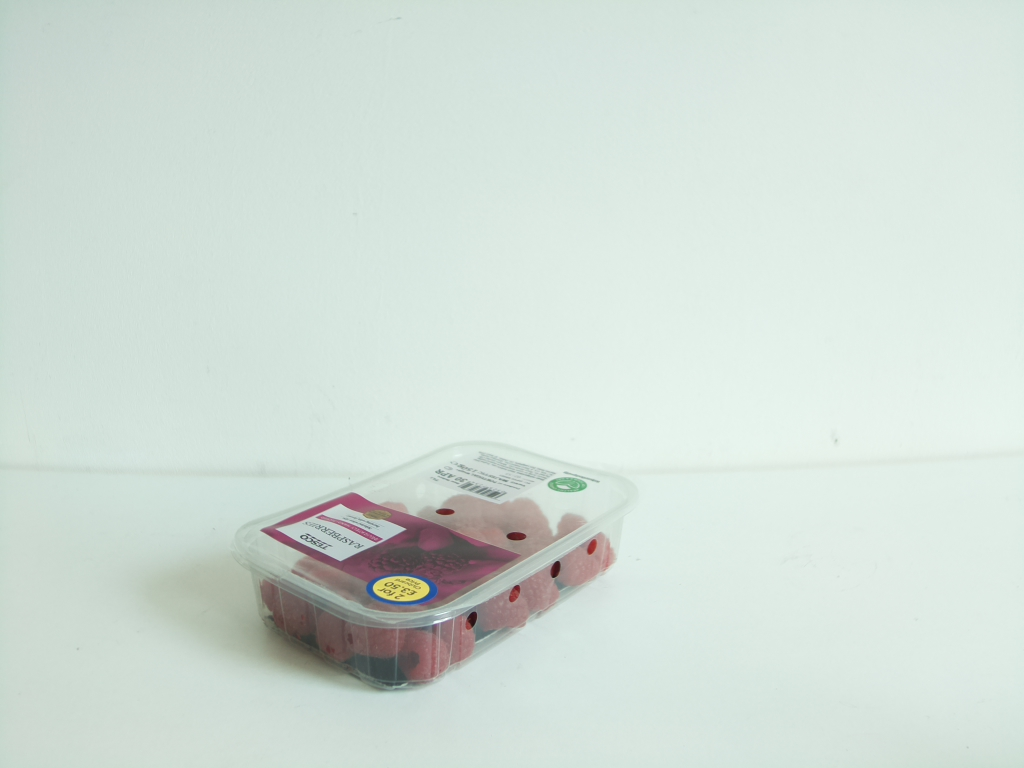soft-fruit: (236, 445, 638, 689)
